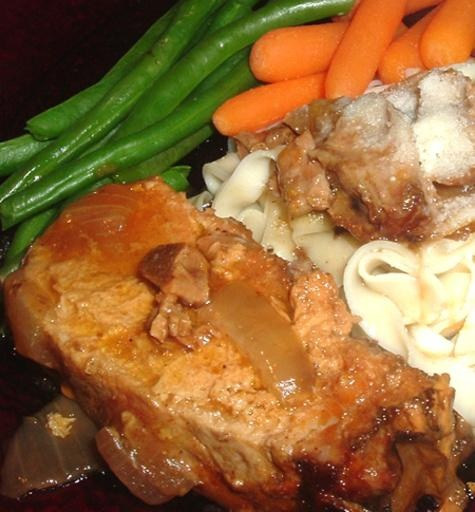background: (0, 0, 353, 410)
